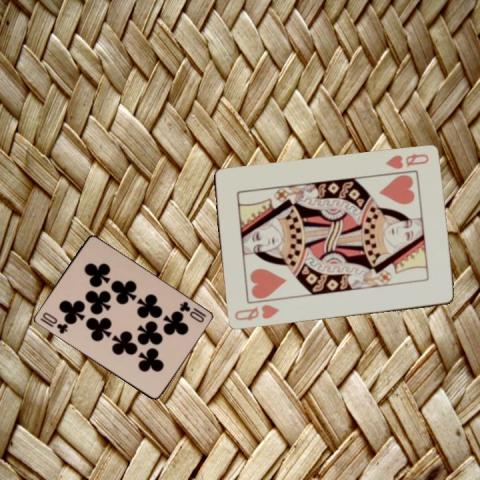10c: (36, 310, 68, 336), (176, 299, 207, 324)
Qh: (231, 302, 280, 323), (382, 150, 430, 170)
